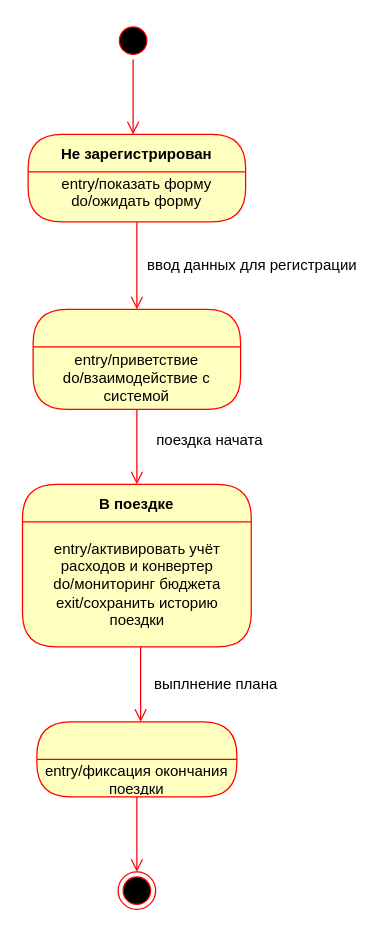
This 391x931 diagram has some shape labels left out. Here are the shapes that lost their labels. From the top down, the box of each, then its label:
(32, 308, 241, 409): Активен
(36, 721, 237, 797): Возврат домой
